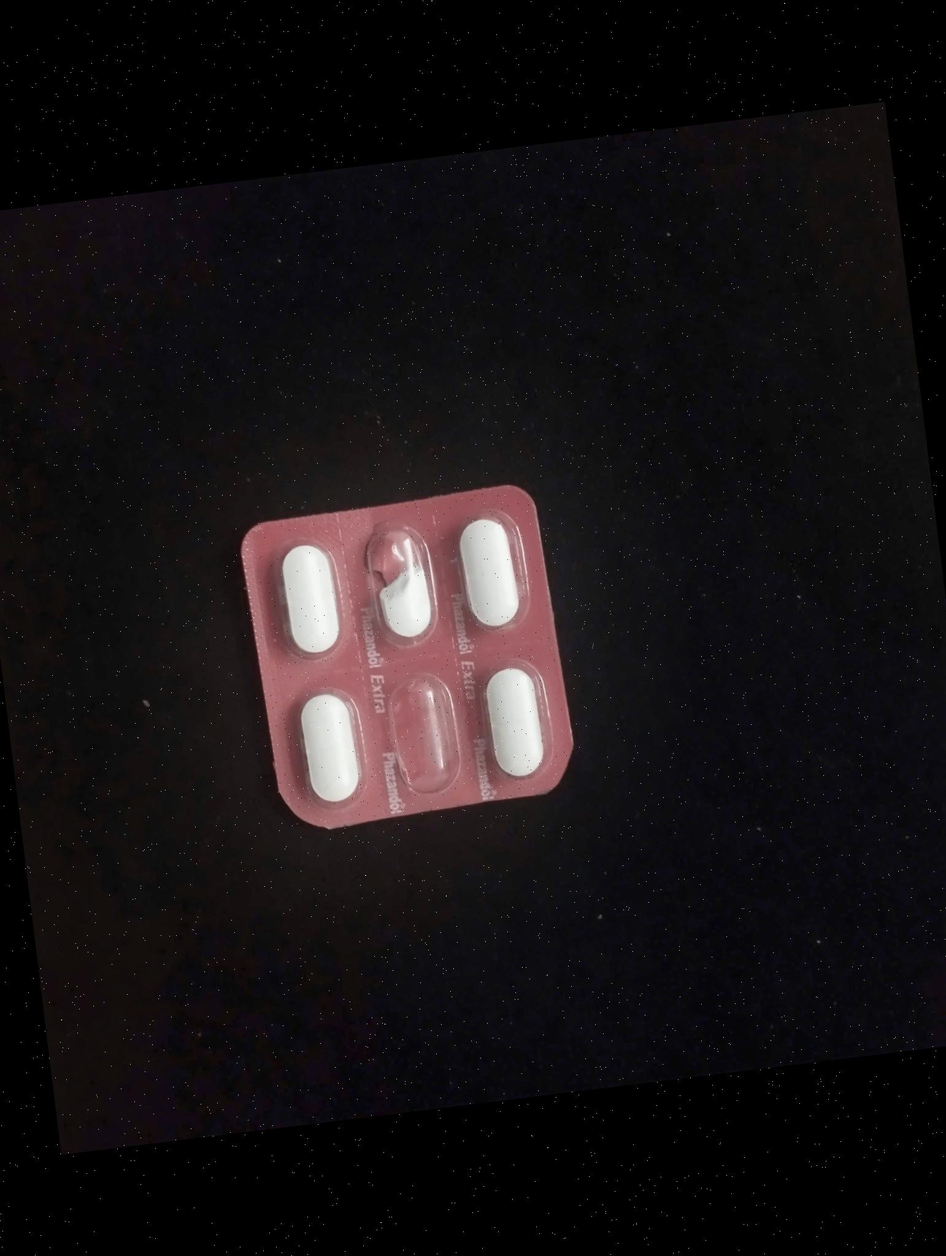Empty: (377, 672, 464, 813)
Full: (259, 529, 353, 668), (447, 500, 533, 641), (284, 690, 371, 818), (470, 658, 553, 789)
Partial: (363, 513, 442, 654)
